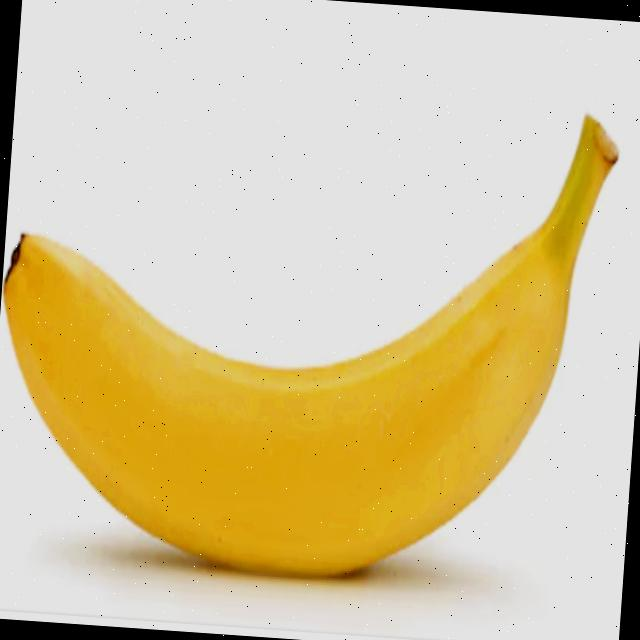Ripe: (0, 49, 628, 613)
